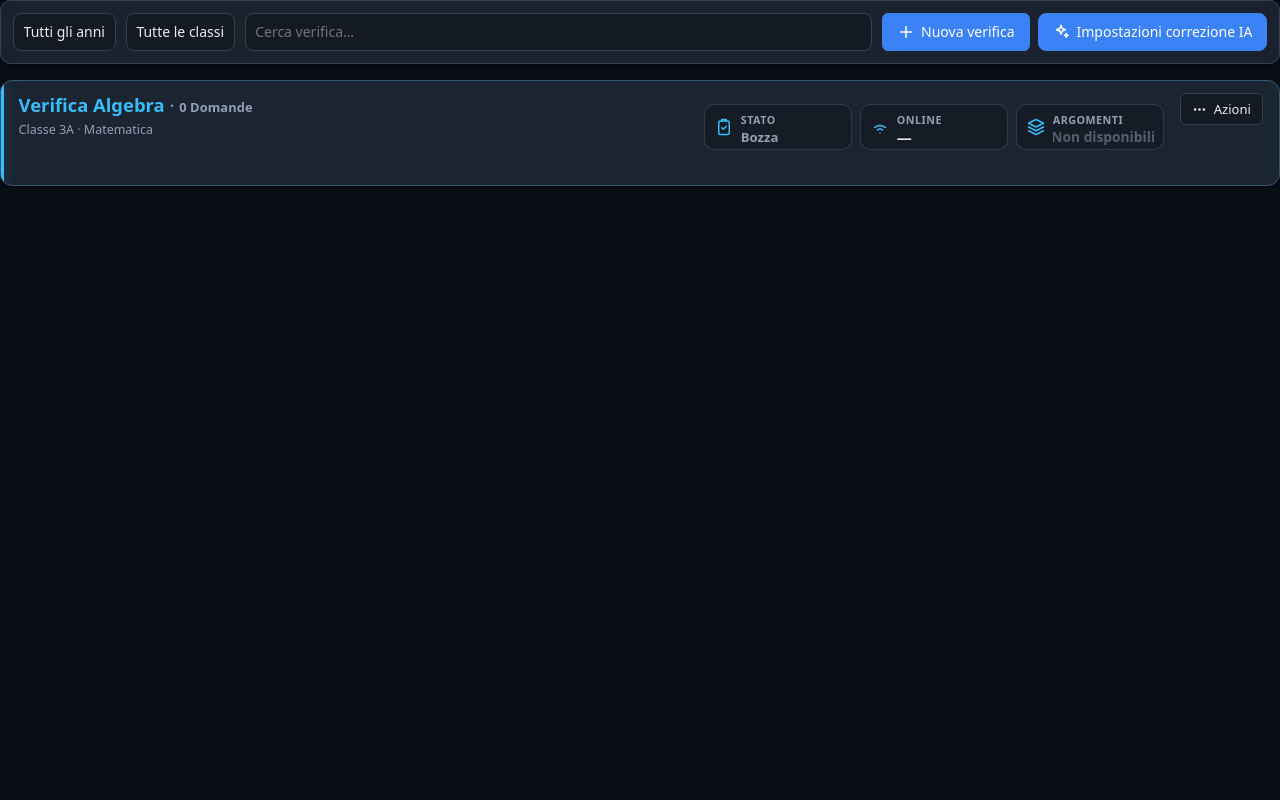
Scenario: VerificationsView › opens creation controls from the toolbar in DialogShell
expect the list named "Archivio verifiche" is shown: met, box x1=0 y1=80 x2=1279 y2=186
Step 1. Click the button "Nuova verifica" → (956, 32), box x1=882 y1=13 x2=1030 y2=51
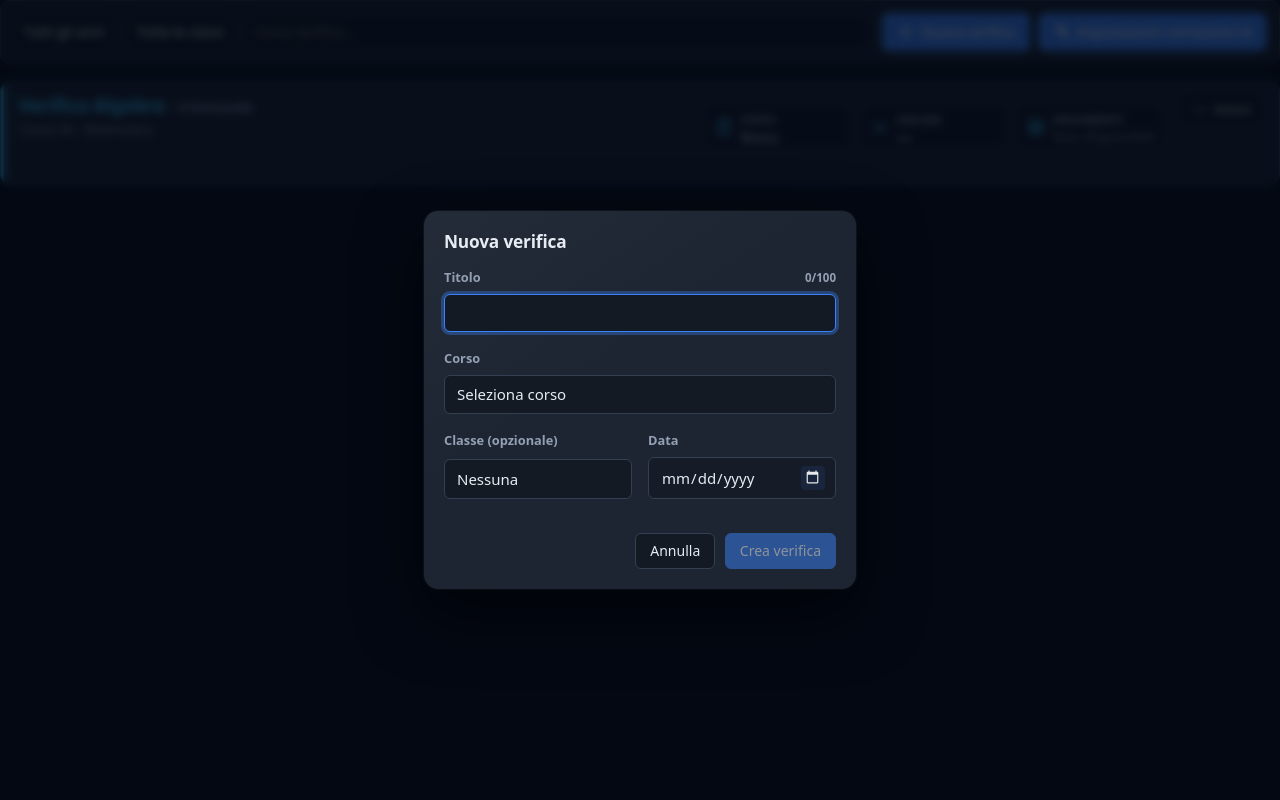
expect the field labelled "Titolo" is shown: met, box x1=444 y1=294 x2=836 y2=332
expect the dropdown labelled "Corso" is shown: met, box x1=444 y1=375 x2=836 y2=414
expect the dropdown labelled "Classe (opzionale)" is shown: met, box x1=444 y1=458 x2=632 y2=499
